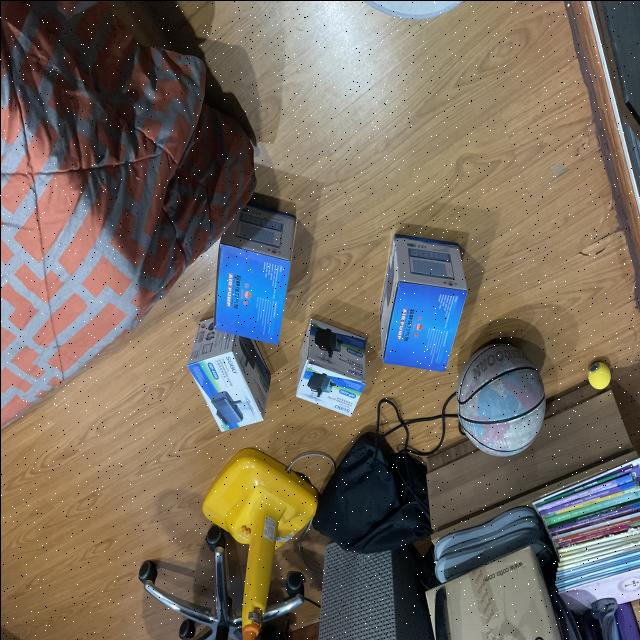SOBO_WP_4200: (180, 316, 286, 448), (295, 309, 375, 425)
YAMANO_LPP_20: (205, 169, 308, 366), (375, 232, 475, 388)
